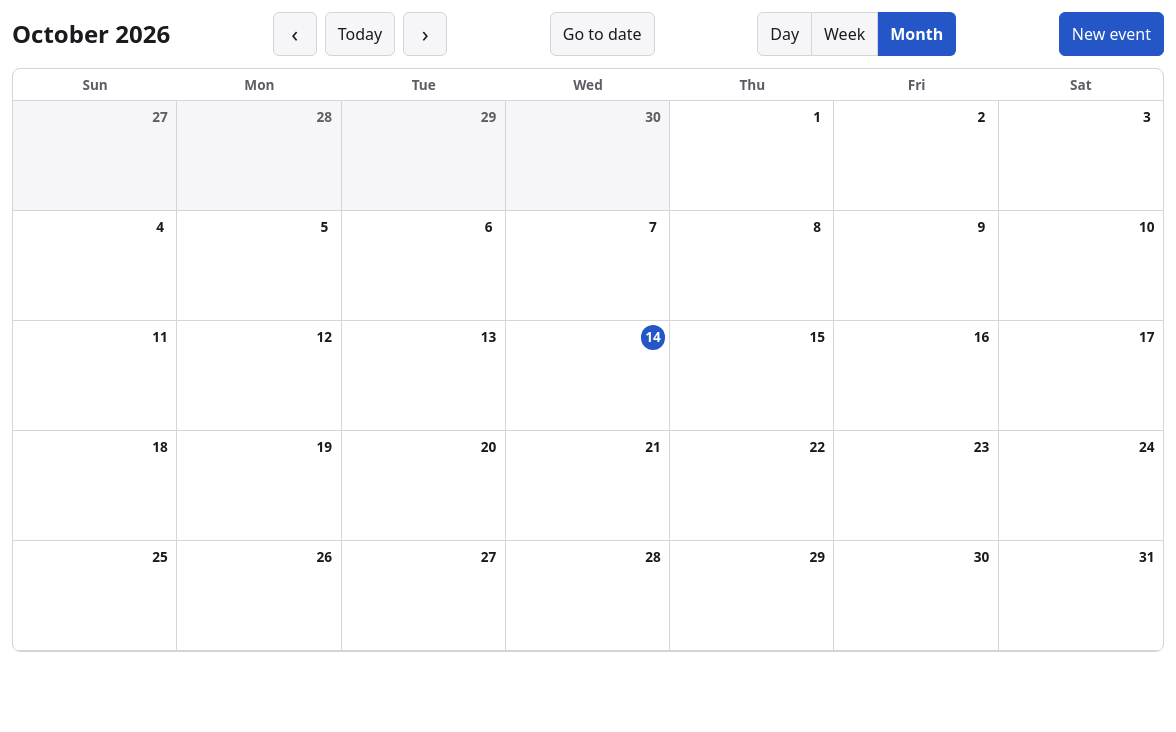
Test: CalendarScreen: today (US4) › shows the current-time line and says "today" in the day view title
Click the button "Day": (785, 34) x1=757 y1=12 x2=812 y2=56
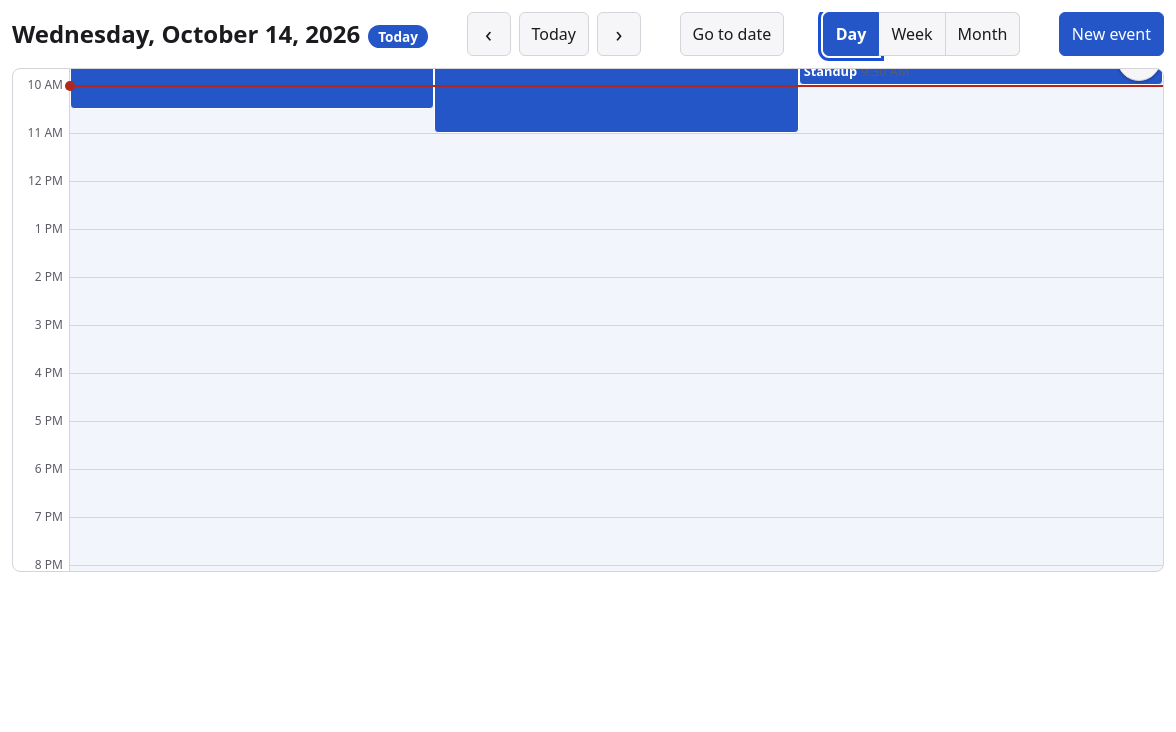
Check: the heading named "Wednesday, October 14, 2026, today" is shown, box x1=12 y1=17 x2=428 y2=51
Check: the element with class "now-line" is shown, box x1=70 y1=85 x2=1163 y2=87
